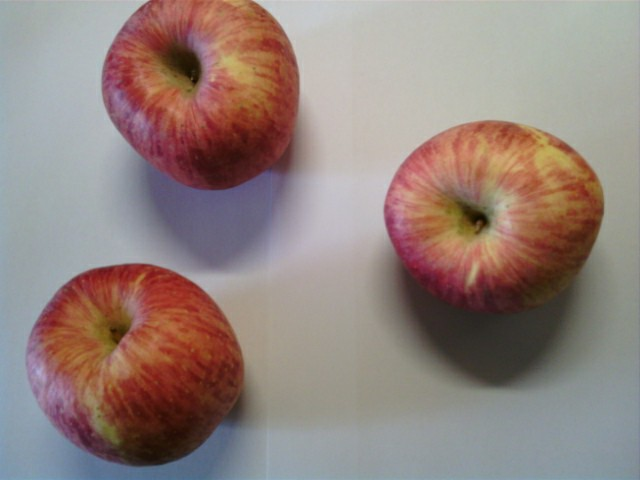normal_apple: (26, 262, 246, 468), (385, 117, 606, 315), (100, 1, 302, 193)
